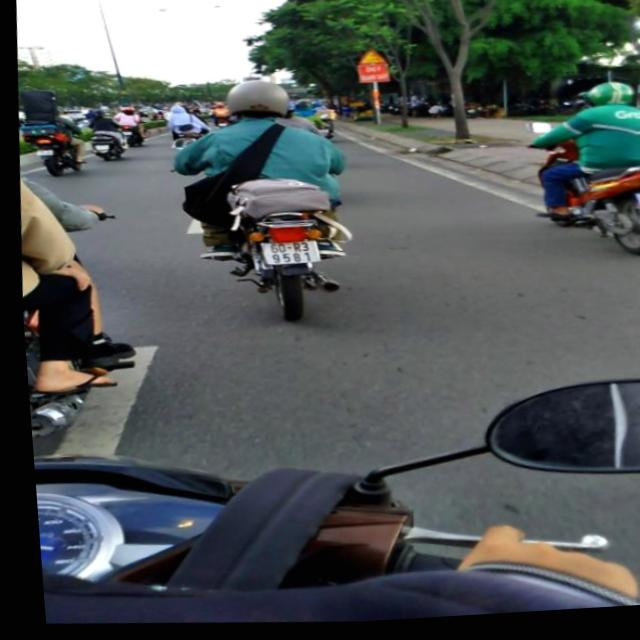Di cham: (355, 52, 387, 71)
